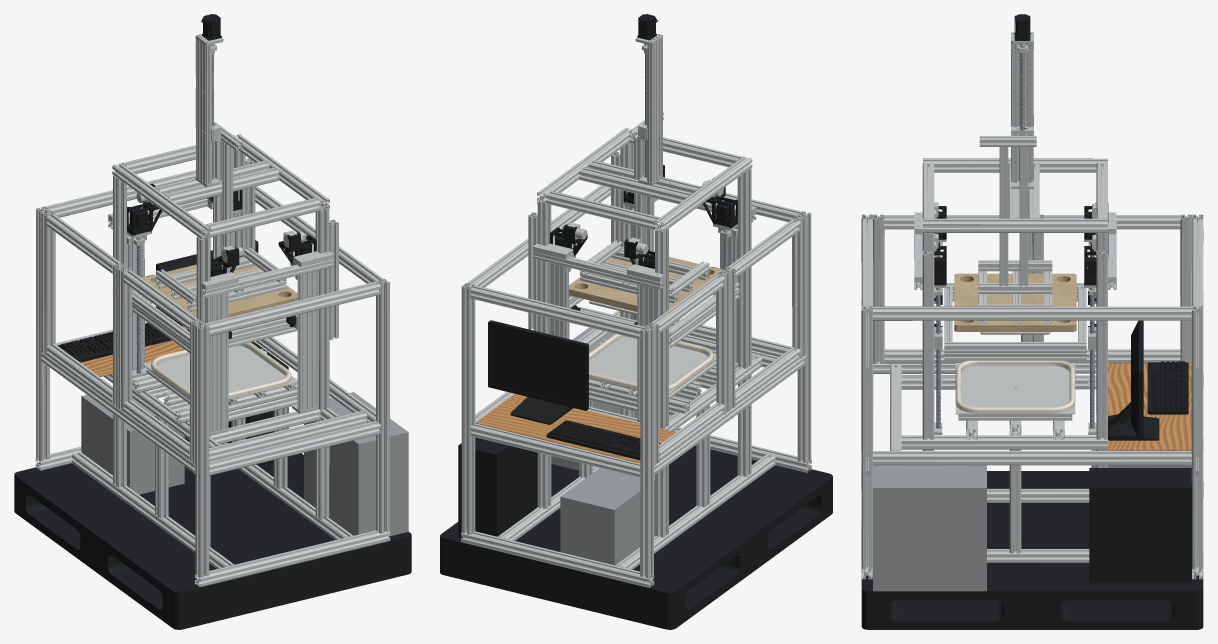
File: ddf-display.glb
3 views of the same model, side by side, from view 1: azimuth 30°, elevation 25°; view 2: azimuth 150°, elevation 25°; view 3: azimuth 270°, elevation 25° (orthographic). The views are drawn at different scales.
Parts seen in each view (by area): view 1: Structural members display, Pallet display, Four corner drives display, Control box display, Heating platform display, Substrate assembly display, Vacuum pump display, Heater lift drive display, Diaphragm clamp frames display, Displacement sensors and mounts display, Keyboard display, Console worktop display (+1 smaller); view 2: Structural members display, Pallet display, Monitor display, Vacuum pump display, Heating platform display, PC display, Substrate assembly display, Four corner drives display, Console worktop display, Heater lift drive display, Displacement sensors and mounts display, Keyboard display (+2 smaller); view 3: Structural members display, Pallet display, Control box display, PC display, Heating platform display, Substrate assembly display, Diaphragm clamp frames display, Console worktop display, Heater lift drive display, Monitor display, Four corner drives display, Keyboard display (+1 smaller).
Boxes of the visible parts, bbox=[...] form: Structural members display: bbox=[35, 134, 390, 587]; Pallet display: bbox=[14, 436, 411, 629]; Four corner drives display: bbox=[127, 191, 318, 435]; Control box display: bbox=[304, 392, 408, 536]; Heating platform display: bbox=[142, 122, 297, 317]; Substrate assembly display: bbox=[142, 342, 297, 405]; Vacuum pump display: bbox=[81, 395, 184, 494]; Heater lift drive display: bbox=[195, 14, 223, 187]; Diaphragm clamp frames display: bbox=[132, 289, 297, 352]; Displacement sensors and mounts display: bbox=[127, 183, 316, 338]; Keyboard display: bbox=[58, 323, 171, 362]; Console worktop display: bbox=[81, 326, 187, 376]; Structural members display: bbox=[461, 127, 811, 587]; Pallet display: bbox=[440, 445, 832, 629]; Monitor display: bbox=[488, 320, 588, 424]; Vacuum pump display: bbox=[560, 468, 654, 565]; Heating platform display: bbox=[569, 112, 721, 314]; PC display: bbox=[458, 437, 537, 537]; Substrate assembly display: bbox=[589, 334, 716, 399]; Four corner drives display: bbox=[548, 192, 737, 422]; Console worktop display: bbox=[475, 394, 675, 463]; Heater lift drive display: bbox=[635, 14, 662, 185]; Displacement sensors and mounts display: bbox=[550, 165, 737, 324]; Keyboard display: bbox=[546, 420, 660, 460]; Structural members display: bbox=[861, 158, 1203, 579]; Pallet display: bbox=[861, 471, 1203, 629]; Control box display: bbox=[873, 465, 986, 591]; PC display: bbox=[1089, 468, 1191, 583]; Heating platform display: bbox=[954, 136, 1076, 334]; Substrate assembly display: bbox=[955, 360, 1075, 420]; Diaphragm clamp frames display: bbox=[944, 283, 1086, 360]; Console worktop display: bbox=[1108, 363, 1191, 450]; Heater lift drive display: bbox=[1011, 14, 1033, 188]; Monitor display: bbox=[1108, 320, 1159, 440]; Four corner drives display: bbox=[934, 211, 1096, 434]; Keyboard display: bbox=[1147, 361, 1188, 414].
Size of the model in its own units: 1.41 by 3 by 1.69.
9 materials, 2 textured.
